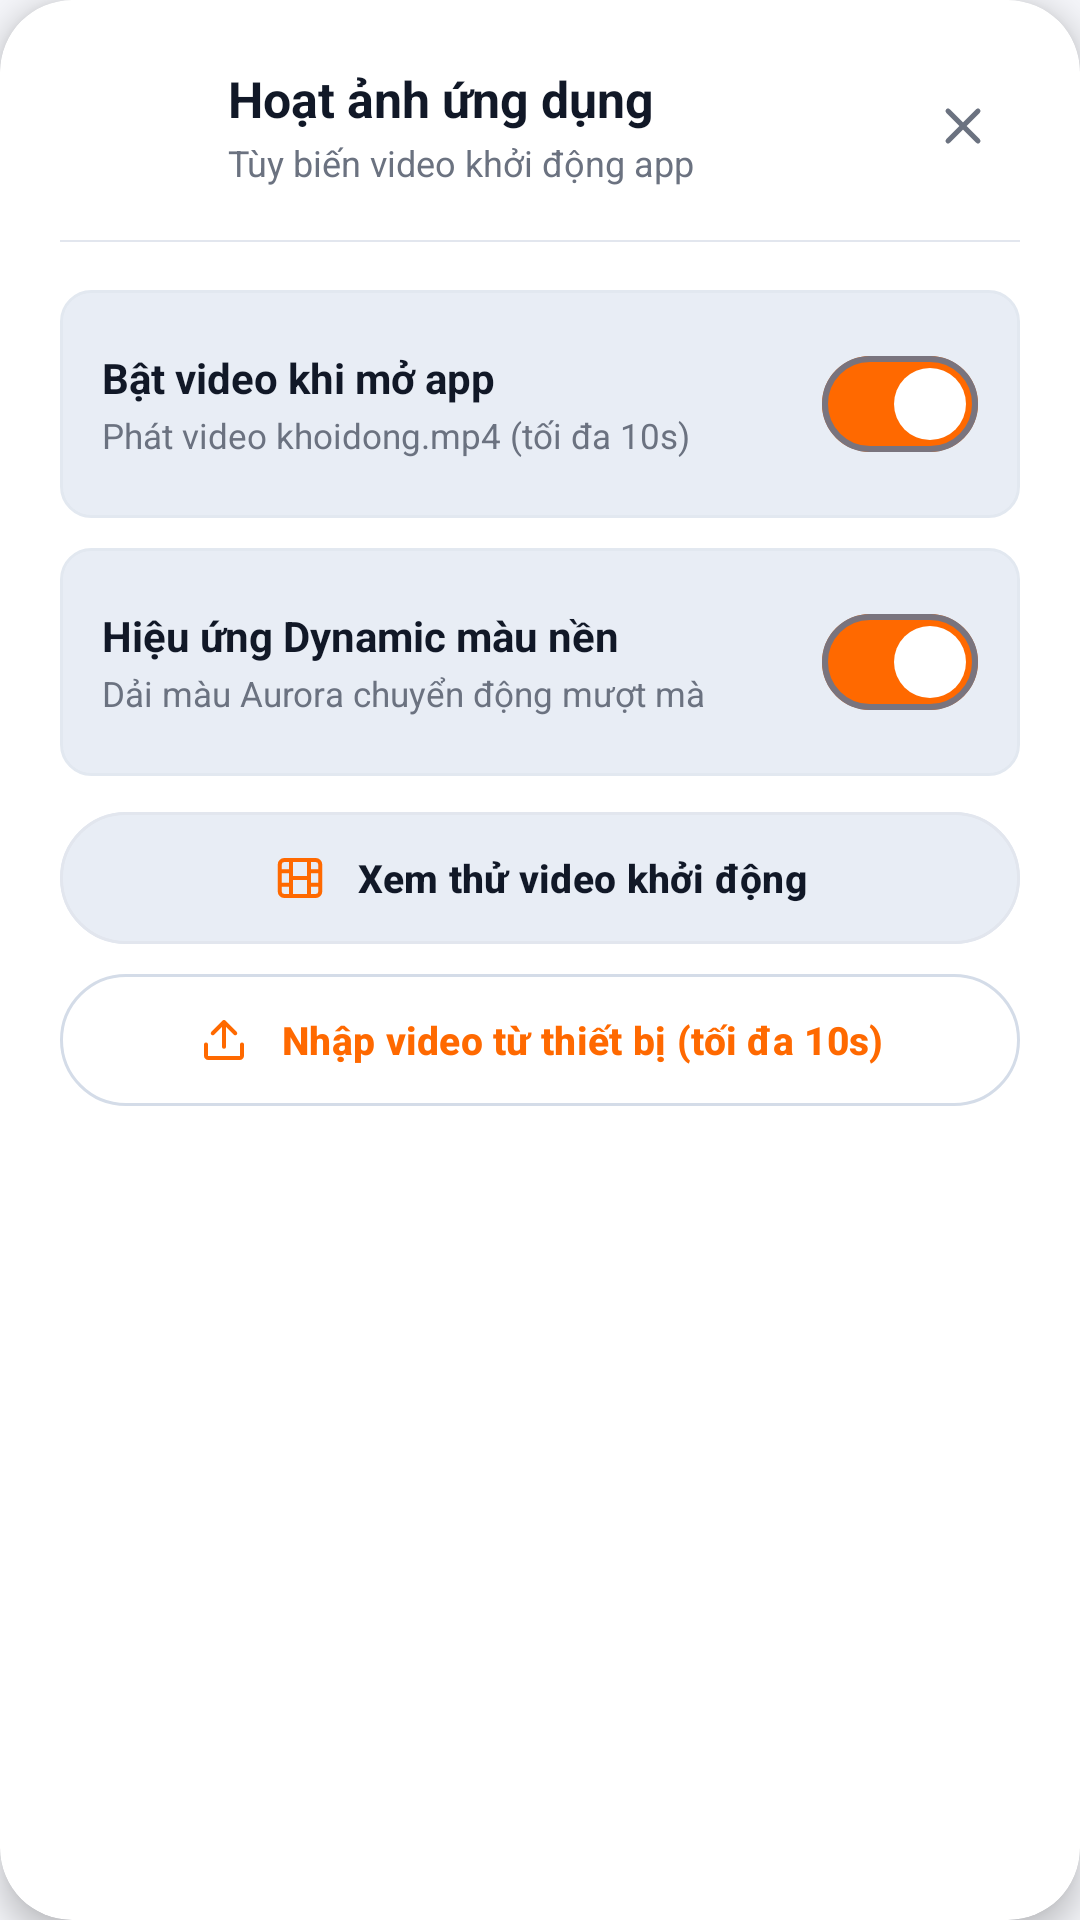

Point at icon controls on the screen. Image size 1080px×1920px, points as point (x, y).
close: point (963, 126)
